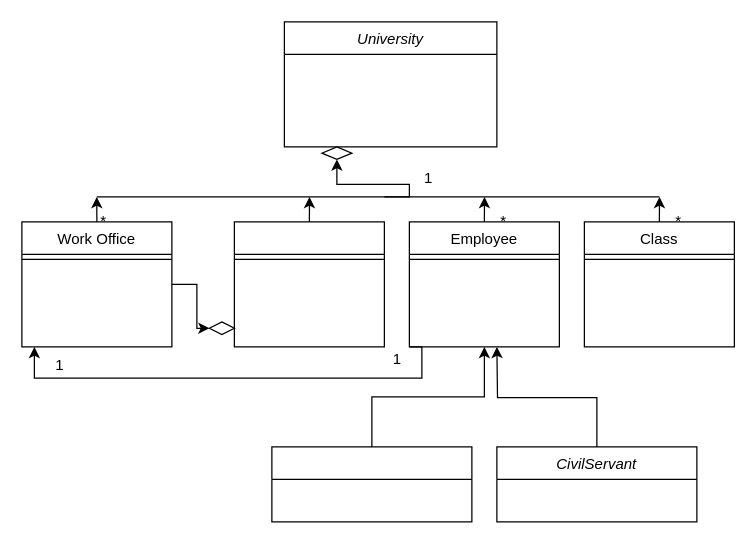
Image size: 756x544. Some labels were removed from this diagram. Here are the shapes that lost their labels. From the top down, the centre of each, then its label:
point 308,284: Deparment
point 371,484: Professors
